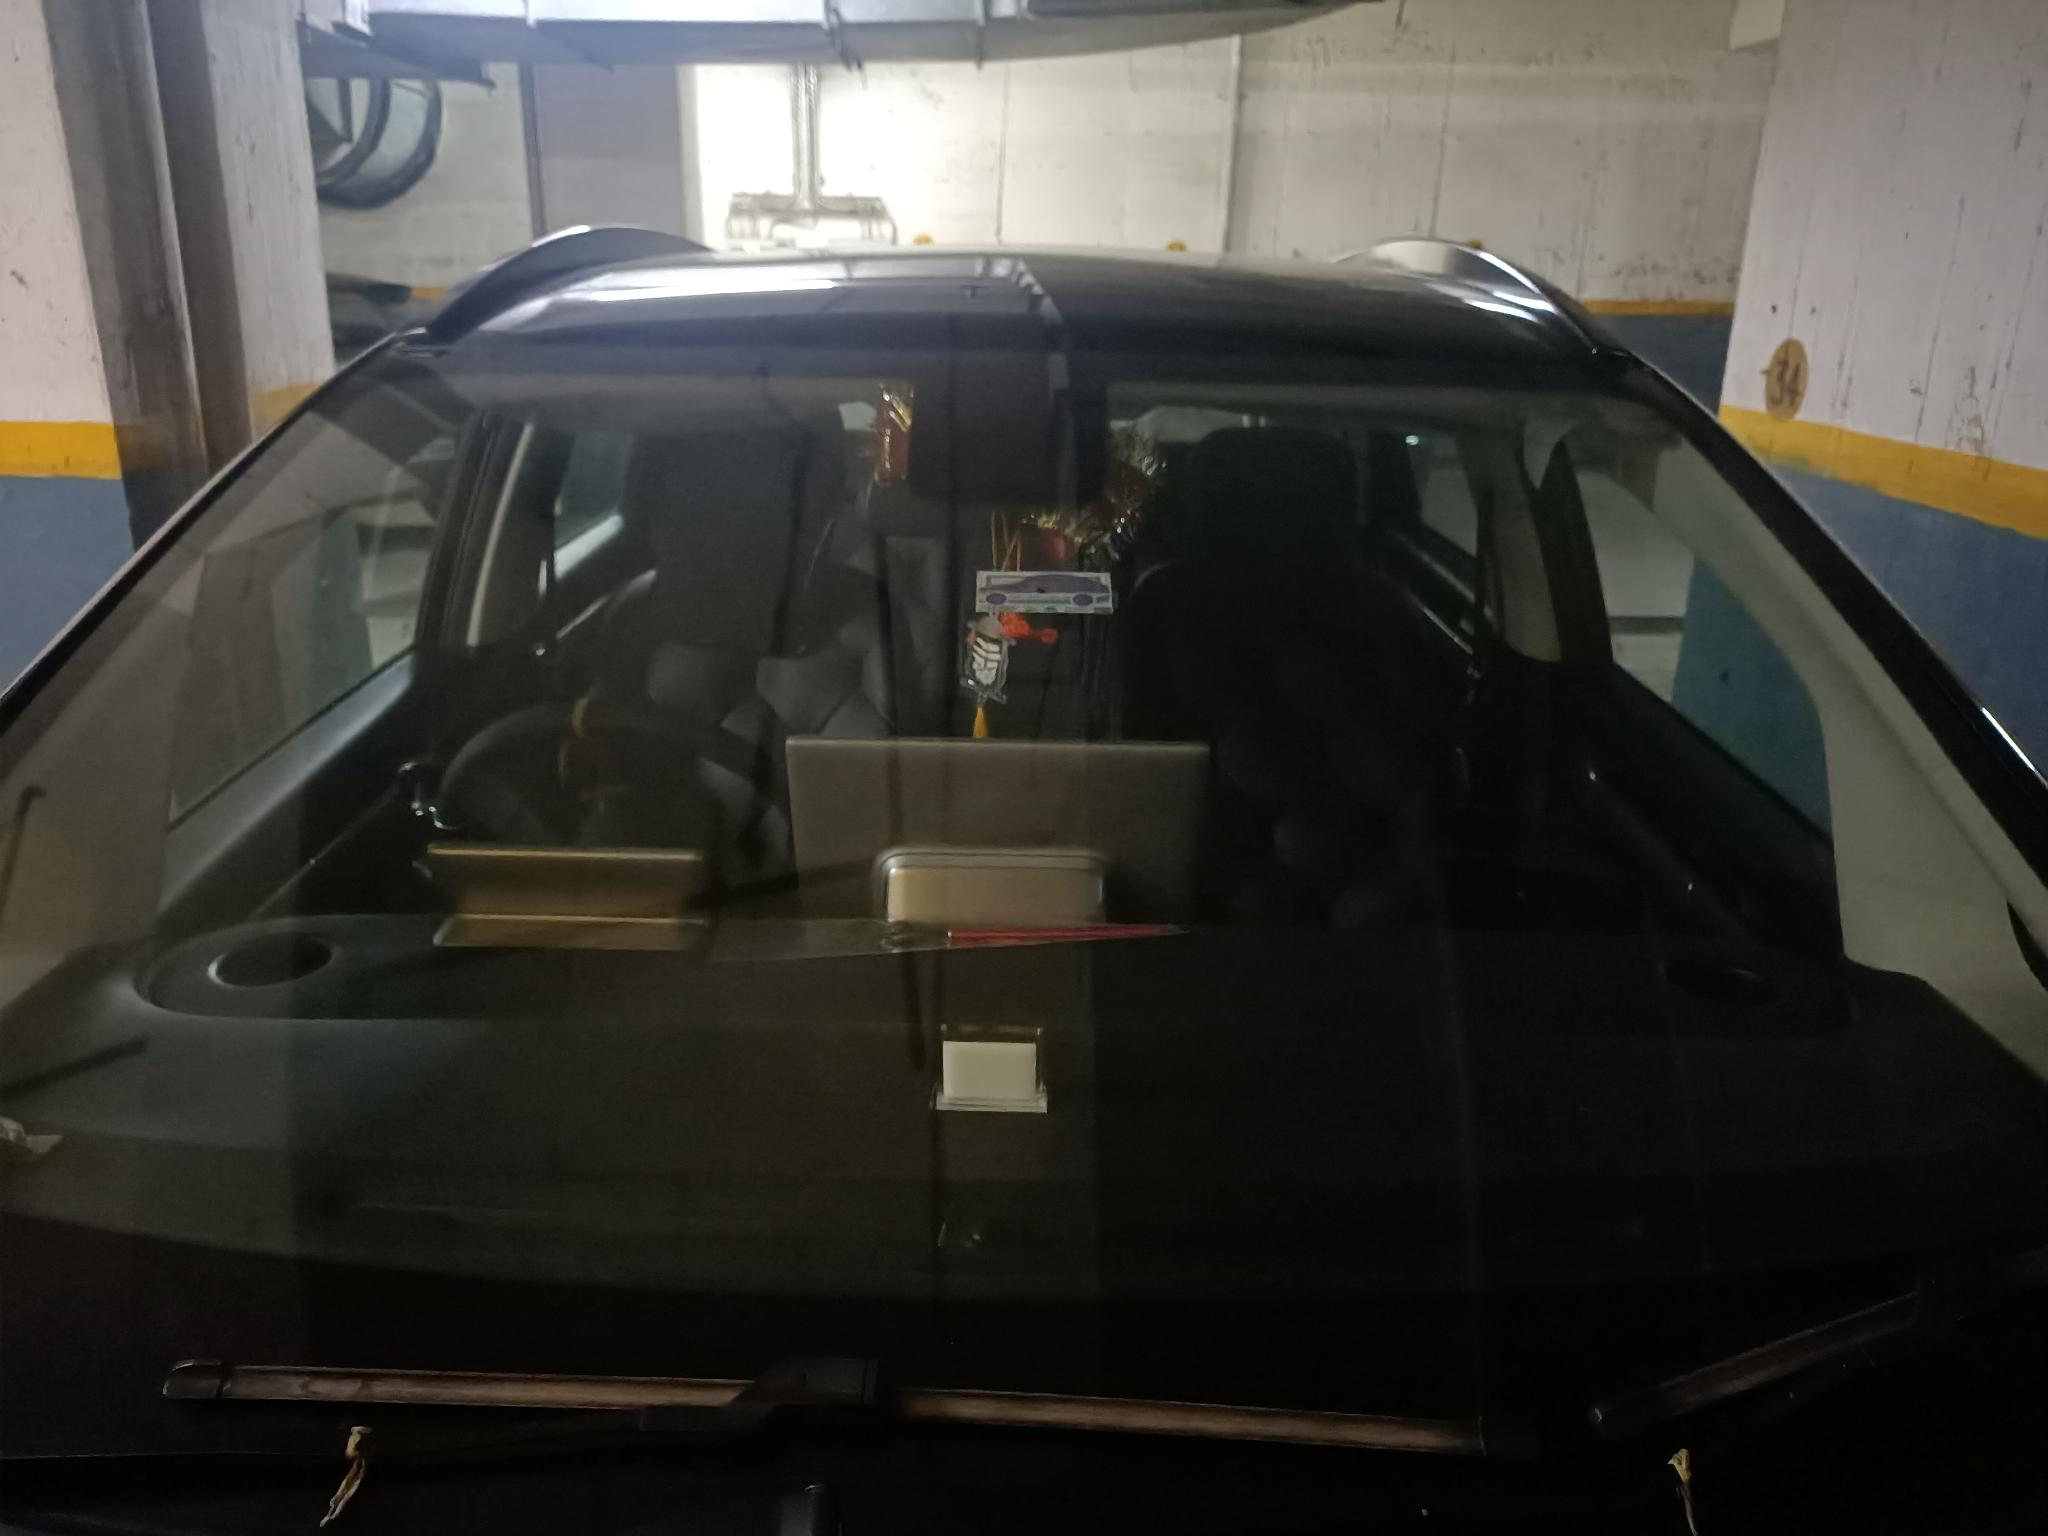FastTag: (968, 560, 1118, 622)
